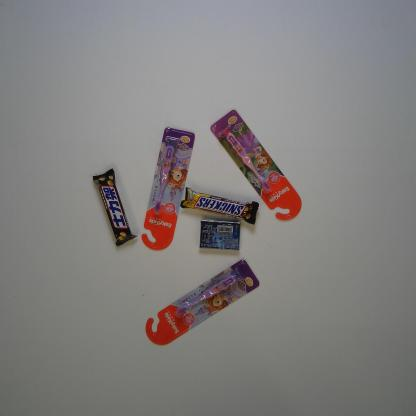Chocolate: (92, 167, 137, 248), (179, 186, 260, 226)
Gum: (198, 218, 242, 252)
Personal Hygiene: (210, 108, 302, 222), (144, 258, 260, 346), (141, 126, 196, 251)
